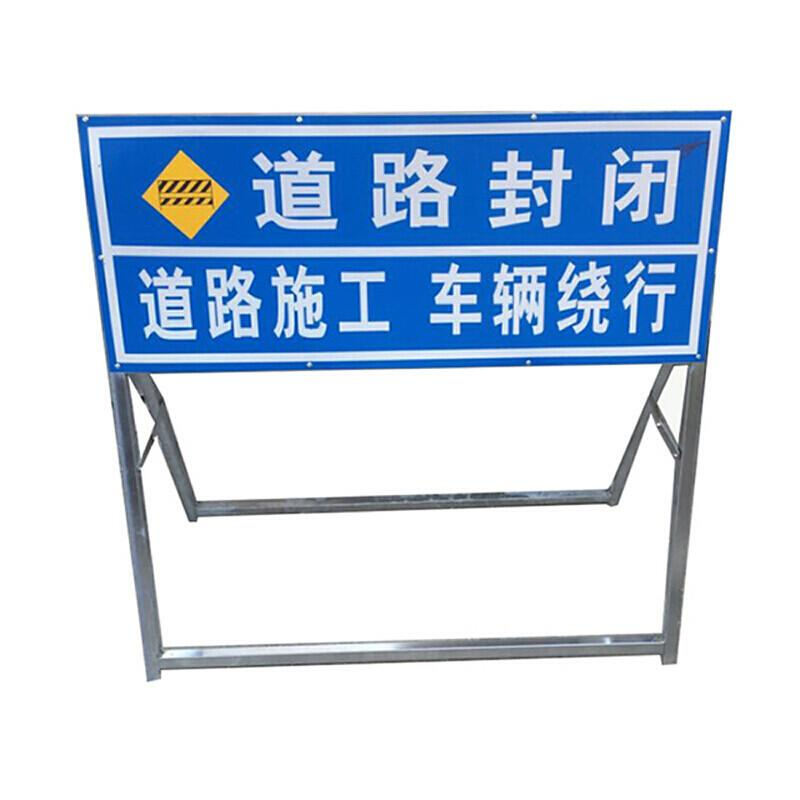sign: (78, 116, 727, 665)
